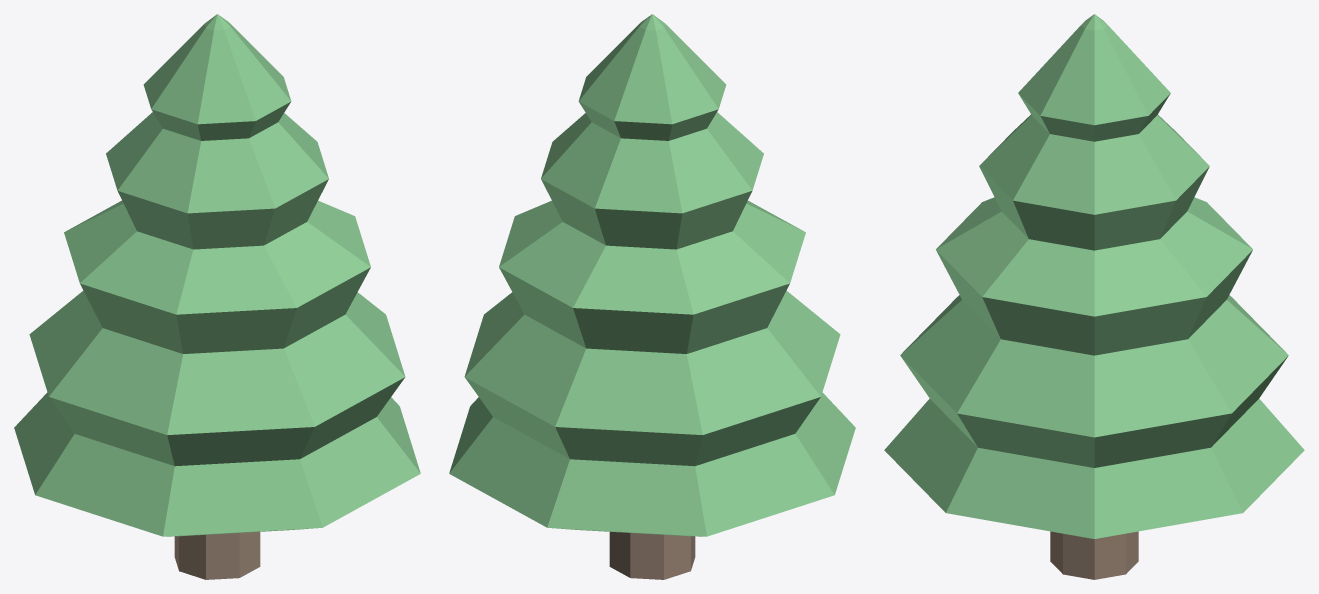
File: PineTree.fbx
3 views of the same model, side by side, from view 1: azimuth 30°, elevation 25°; view 2: azimuth 150°, elevation 25°; view 3: azimuth 270°, elevation 25° (orthographic).
Visible parts, largest first — view 1: pCylinder2; view 2: pCylinder2; view 3: pCylinder2.
Part boxes in pixels (box(x1,y1,x2,y2)): pCylinder2: box(14, 14, 420, 579); pCylinder2: box(449, 14, 855, 579); pCylinder2: box(884, 14, 1304, 579).
Bounding box in the file's own units: 6.95 × 9.98 × 6.95.
